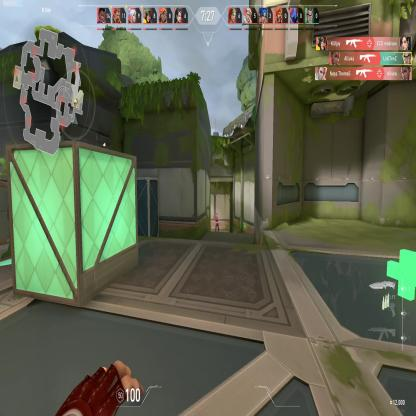enemy: (214, 211, 220, 232)
